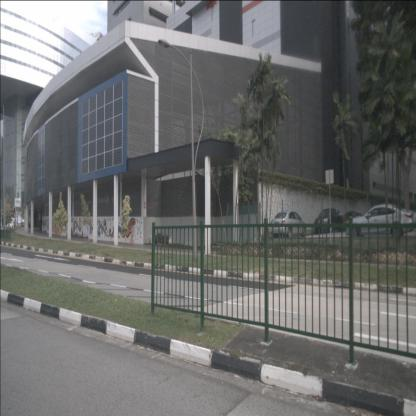human-pedestrian-adult: (40, 217, 42, 231)
vehicle-car: (346, 204, 414, 237), (270, 210, 306, 238), (314, 208, 343, 233), (339, 211, 369, 232), (6, 221, 16, 230)
